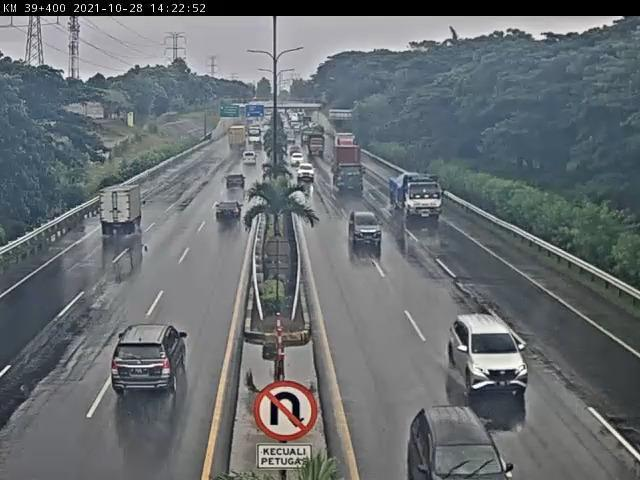truck: (390, 173, 446, 222), (99, 185, 144, 238), (330, 145, 368, 193)
